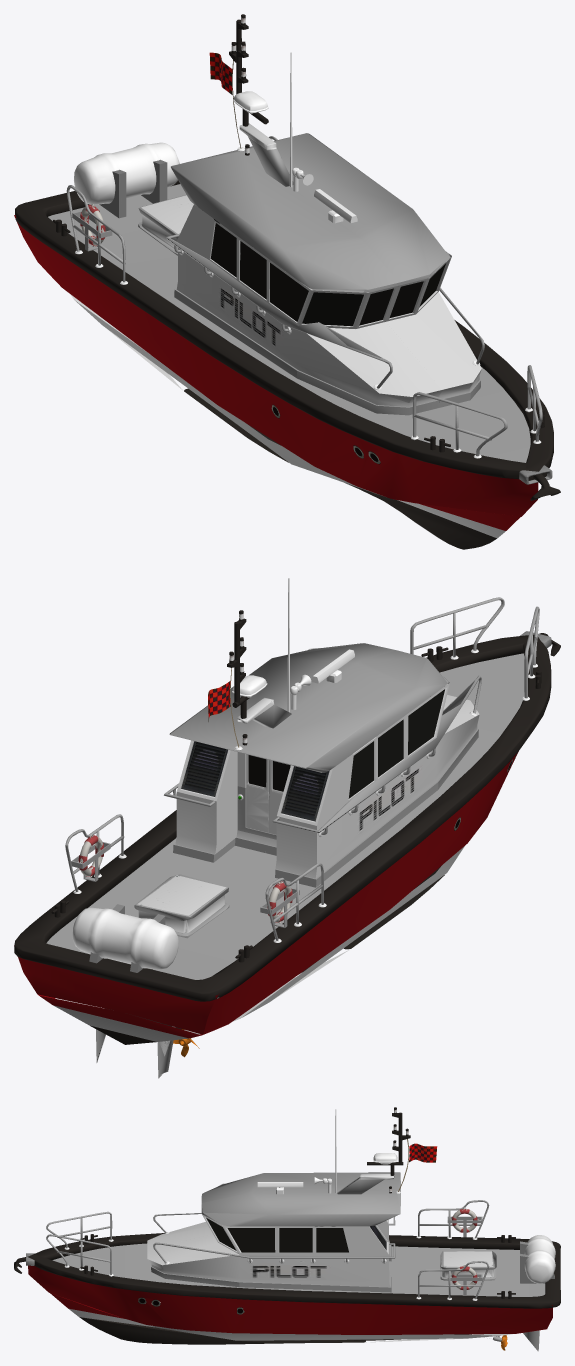
The model's file is pilot.glb.
The picture shows the model from 3 angles, top to bottom: view 1: azimuth 30°, elevation 25°; view 2: azimuth 150°, elevation 25°; view 3: azimuth 270°, elevation 25°; orthographic projection. The views are drawn at different scales.
Parts seen in each view (by area): view 1: Object_16, Object_19, Object_15, Object_12, Object_22, Object_20, Object_7, Object_18; view 2: Object_16, Object_12, Object_22, Object_19, Object_15, Object_7, Object_20, Object_17, Object_13; view 3: Object_15, Object_16, Object_12, Object_19, Object_22, Object_20, Object_7, Object_5, Object_18, Object_13.
Part boxes in pixels (x1,y1,x2,y2): Object_16: [70, 123, 505, 538]; Object_19: [174, 204, 481, 415]; Object_15: [14, 215, 538, 530]; Object_12: [15, 14, 560, 549]; Object_22: [15, 136, 542, 462]; Object_20: [211, 223, 445, 326]; Object_7: [74, 52, 541, 458]; Object_18: [99, 159, 552, 484]; Object_16: [53, 643, 481, 1078]; Object_12: [14, 610, 560, 1044]; Object_22: [46, 597, 539, 998]; Object_19: [173, 648, 479, 887]; Object_15: [18, 751, 518, 1038]; Object_7: [72, 578, 537, 969]; Object_20: [248, 689, 444, 798]; Object_17: [181, 741, 329, 821]; Object_13: [80, 834, 291, 923]; Object_15: [28, 1265, 552, 1334]; Object_16: [68, 1172, 539, 1351]; Object_12: [14, 1107, 560, 1344]; Object_19: [147, 1183, 391, 1292]; Object_22: [46, 1200, 545, 1299]; Object_20: [206, 1218, 348, 1252]; Object_7: [64, 1109, 555, 1300]; Object_5: [409, 1143, 437, 1162]; Object_18: [26, 1241, 554, 1283]; Object_13: [450, 1207, 478, 1289].
Bounding box in the file's own units: 5.16 × 8.85 × 18.52.
17 materials, 14 textured.
